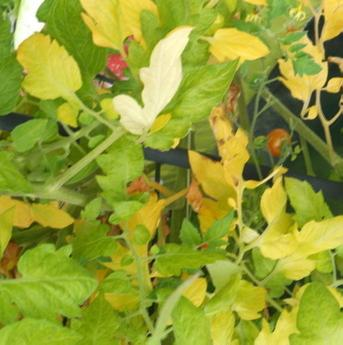Tomato leaf yellow virus: (0, 237, 103, 324), (186, 104, 257, 211), (12, 26, 88, 105), (284, 271, 343, 345), (205, 22, 272, 63)
